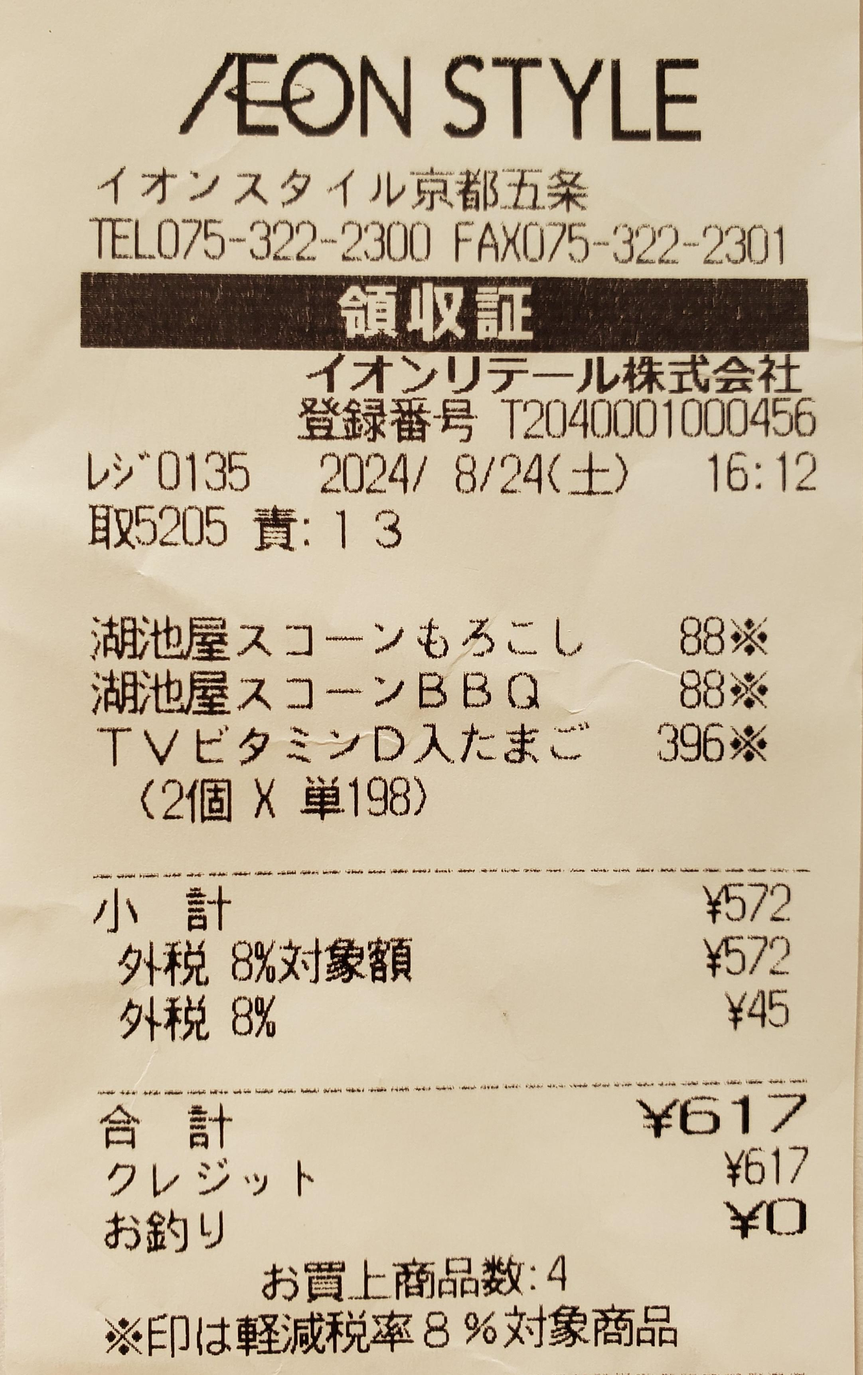TEL: (158, 216, 436, 262)
date: (313, 447, 546, 502)
total: (678, 1086, 827, 1143)
